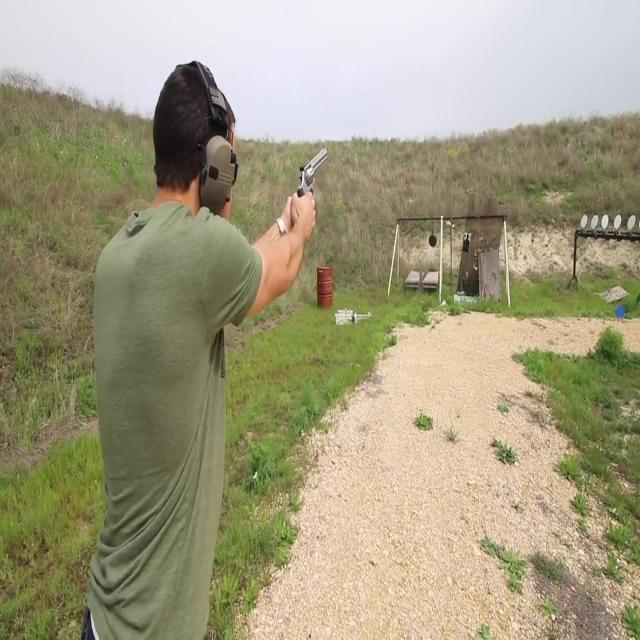Weapon: (290, 72, 346, 256)
